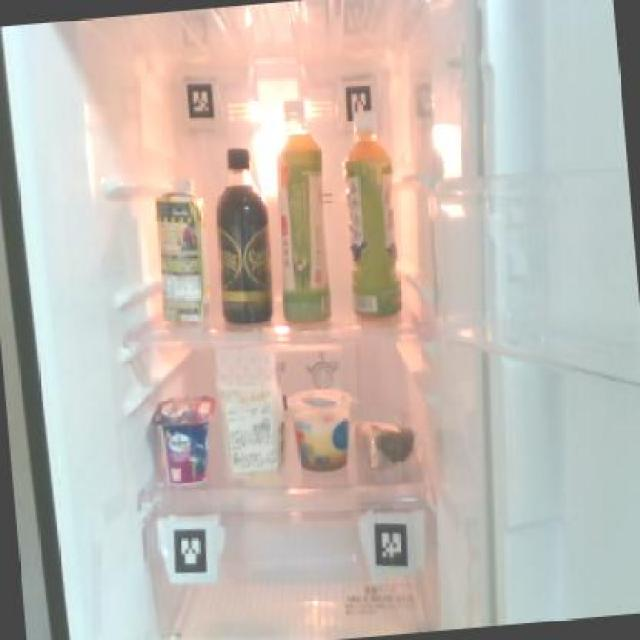coffee: (207, 142, 276, 324)
pudding: (283, 378, 354, 474)
rice_ball: (352, 414, 419, 477)
sandwich: (210, 338, 290, 482)
smoothie: (149, 178, 214, 325)
tea_a: (336, 117, 404, 320)
tea_i: (265, 94, 338, 328)
yogurt: (152, 391, 220, 484)
